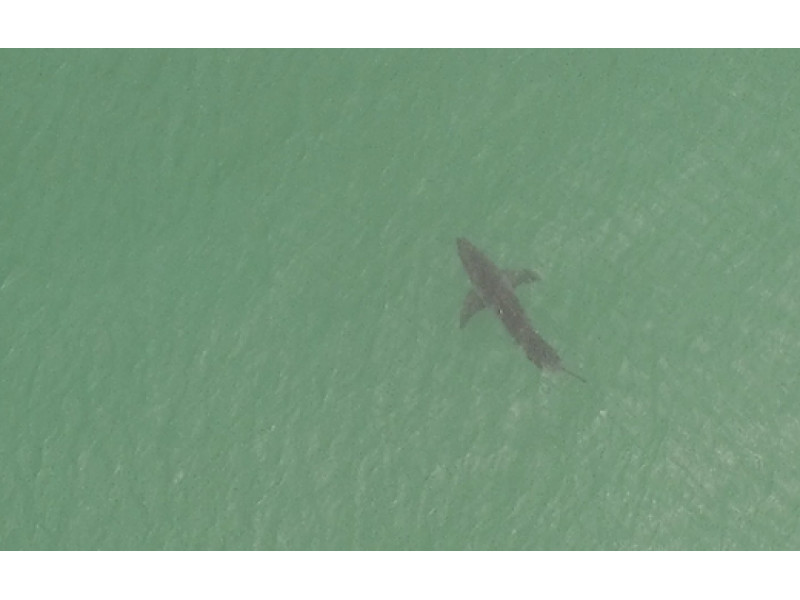shark: (447, 230, 587, 393)
